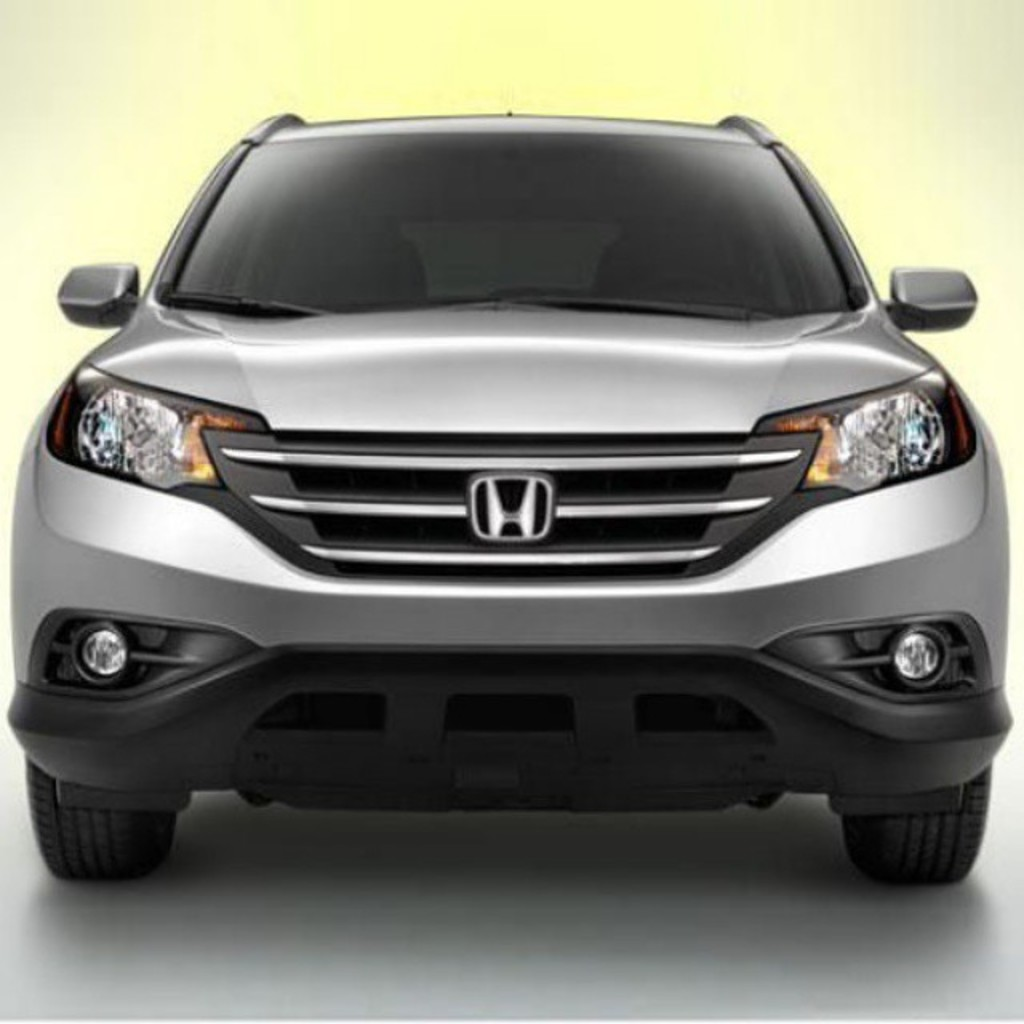Car: (1, 107, 1012, 883)
